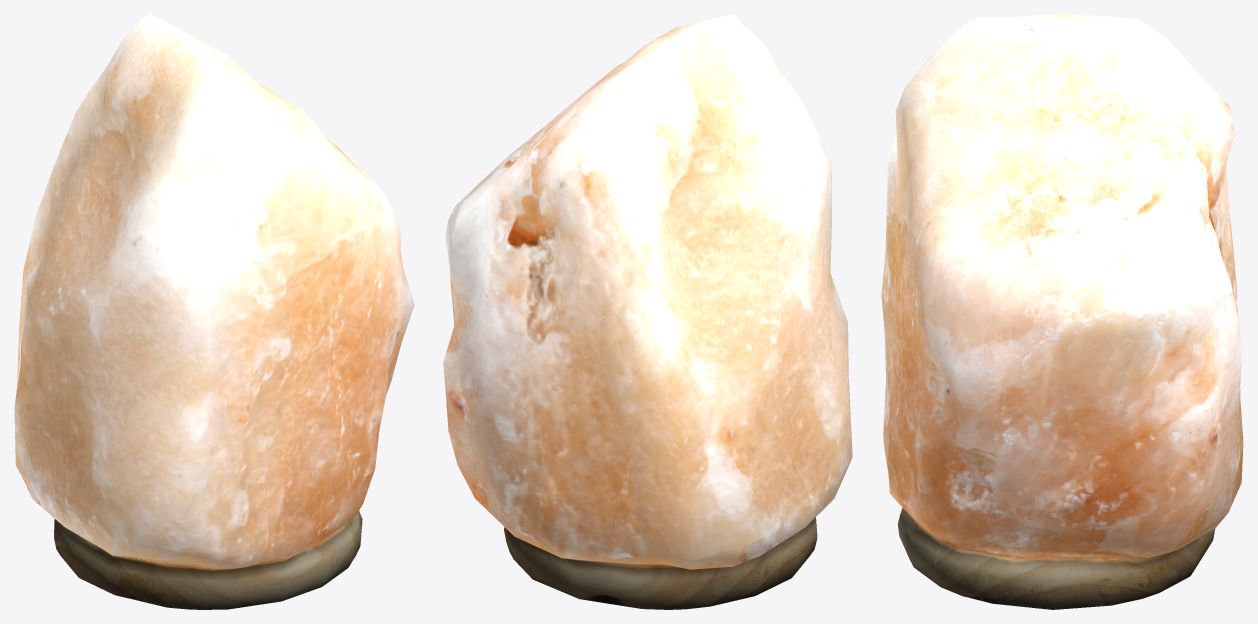
3 renders of one model, left to right at view 1: azimuth 30°, elevation 25°; view 2: azimuth 150°, elevation 25°; view 3: azimuth 270°, elevation 25°, orthographic. The views are drawn at different scales.
Parts seen in each view (by area): view 1: Salt Rock Lamp; view 2: Salt Rock Lamp; view 3: Salt Rock Lamp.
Part boxes in pixels (box(x1,y1,x2,y2)): Salt Rock Lamp: box(14, 14, 414, 609); Salt Rock Lamp: box(443, 14, 852, 609); Salt Rock Lamp: box(881, 14, 1243, 609).
Bounding box in the file's own units: 0.2078 × 0.3168 × 0.1997.
1 material, 1 textured.
